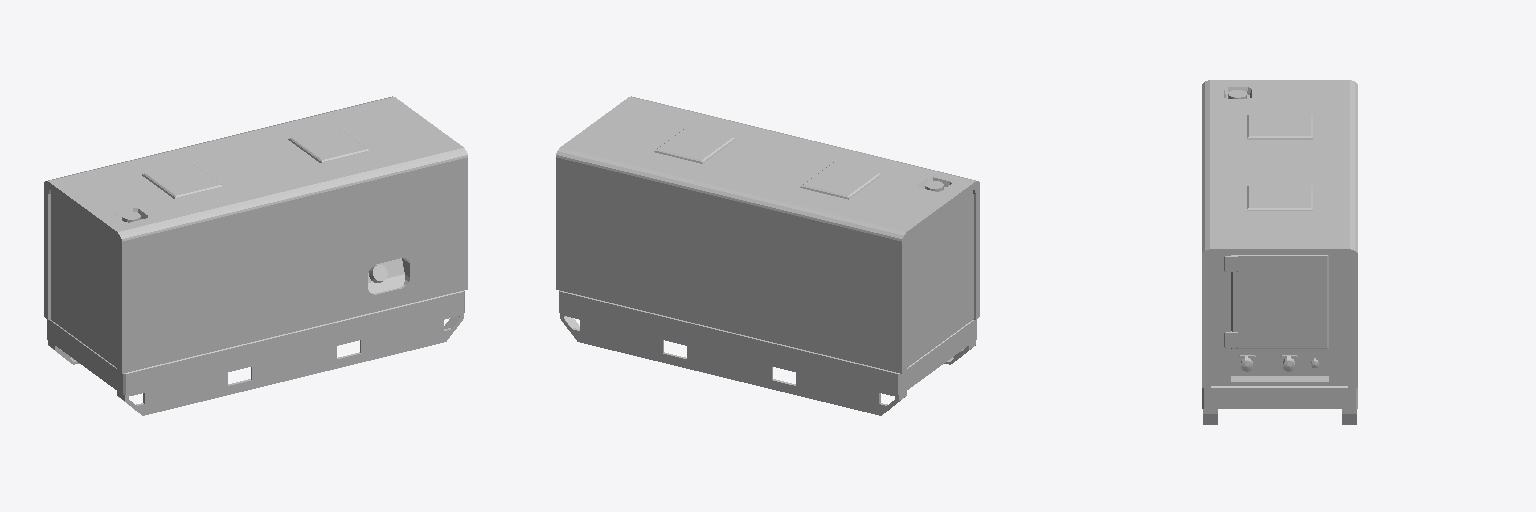
Rendered from Stationary_diesel_generator_2.obj.
3 renders of one model, left to right at view 1: azimuth 30°, elevation 25°; view 2: azimuth 150°, elevation 25°; view 3: azimuth 270°, elevation 25°, orthographic.
Visible parts, largest first — view 1: Stationary_diesel_generator_2_Stationary-diesel-generator-2; view 2: Stationary_diesel_generator_2_Stationary-diesel-generator-2; view 3: Stationary_diesel_generator_2_Stationary-diesel-generator-2.
Boxes of the visible parts, box(x1,y1,x2,y2) form: Stationary_diesel_generator_2_Stationary-diesel-generator-2: box(44, 96, 467, 415); Stationary_diesel_generator_2_Stationary-diesel-generator-2: box(556, 96, 979, 415); Stationary_diesel_generator_2_Stationary-diesel-generator-2: box(1202, 80, 1357, 424).
Bounding box in the file's own units: 286 × 149 × 112.